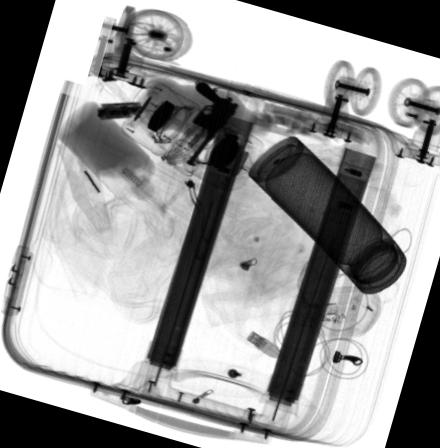Gun: (183, 81, 240, 168)
